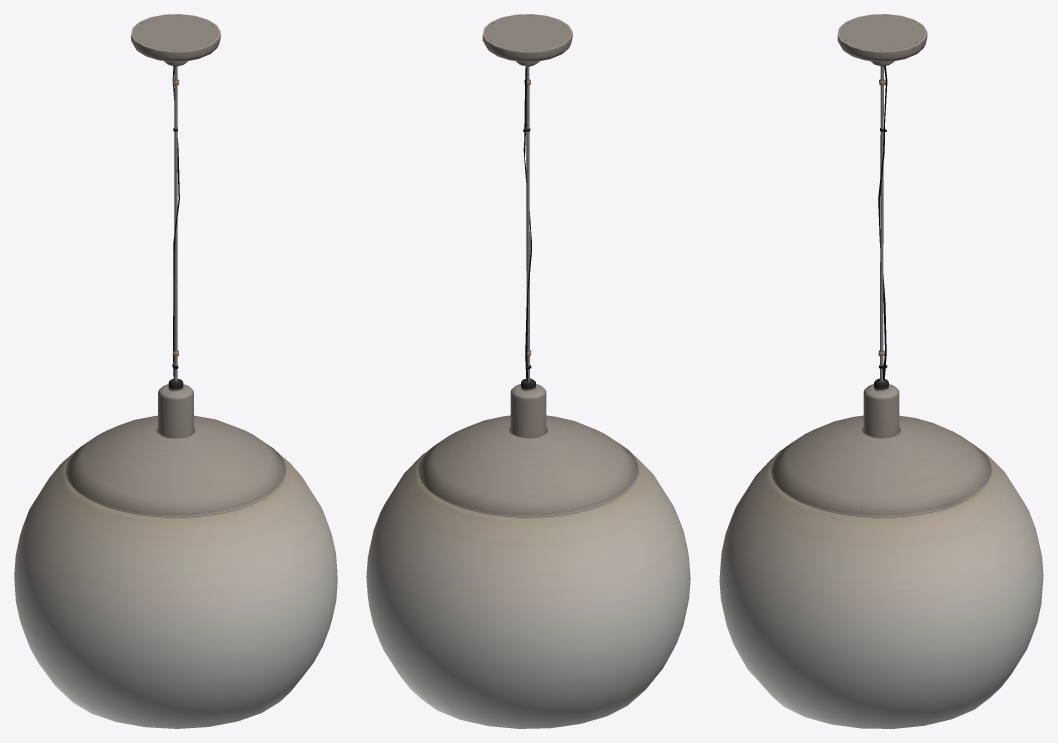
File: modern_ceiling_lamp_01_1k.gltf
3 views of the same model, side by side, from view 1: azimuth 30°, elevation 25°; view 2: azimuth 150°, elevation 25°; view 3: azimuth 270°, elevation 25° (orthographic).
Parts seen in each view (by area): view 1: modern_ceiling_lamp_01; view 2: modern_ceiling_lamp_01; view 3: modern_ceiling_lamp_01.
Boxes of the visible parts, box(x1,y1,x2,y2) form: modern_ceiling_lamp_01: box(14, 14, 337, 728); modern_ceiling_lamp_01: box(366, 14, 690, 728); modern_ceiling_lamp_01: box(719, 14, 1043, 728).
Bounding box in the file's own units: 0.4316 × 0.9512 × 0.4317.
Materials: 3 (3 with a texture image).
